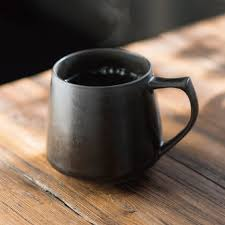cup: (44, 45, 201, 186)
